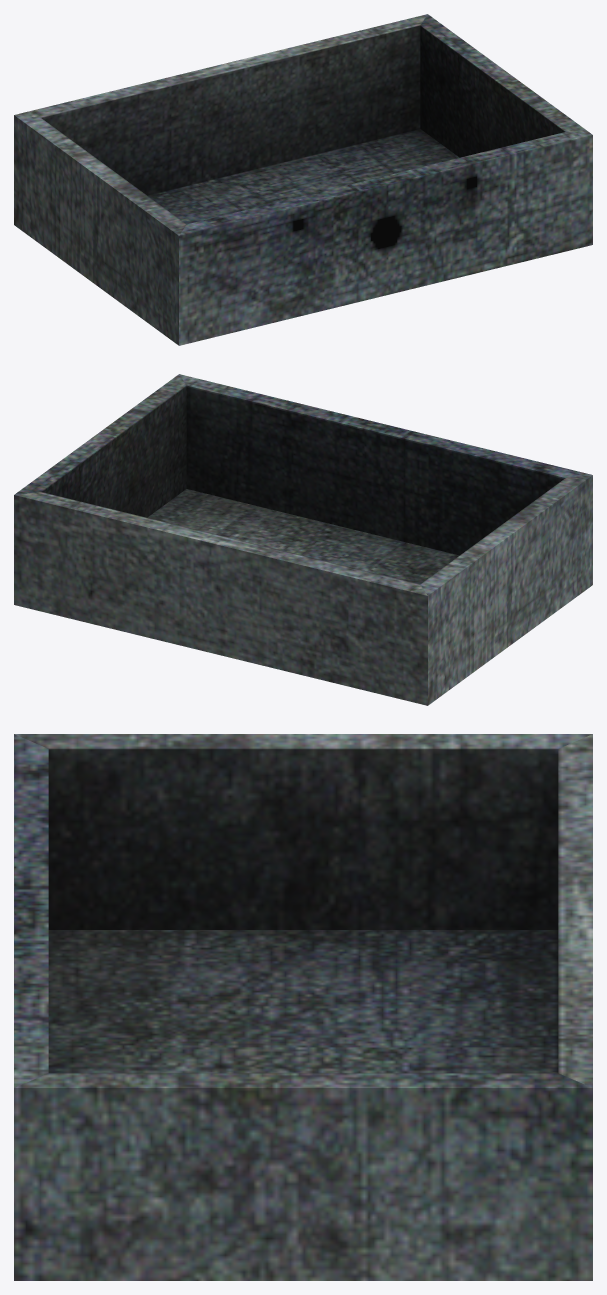
File: DrawerBox.fbx
The picture shows the model from 3 angles, top to bottom: view 1: azimuth 30°, elevation 25°; view 2: azimuth 150°, elevation 25°; view 3: azimuth 270°, elevation 25°; orthographic projection. The views are drawn at different scales.
Visible parts, largest first — view 1: polySurface225; view 2: polySurface225; view 3: polySurface225.
Boxes of the visible parts, left/top/right/bottom form: polySurface225: left=14, top=14, right=592, bottom=345; polySurface225: left=14, top=374, right=592, bottom=705; polySurface225: left=14, top=734, right=592, bottom=1280.
Bounding box in the file's own units: 3.84 × 0.9764 × 2.66.
